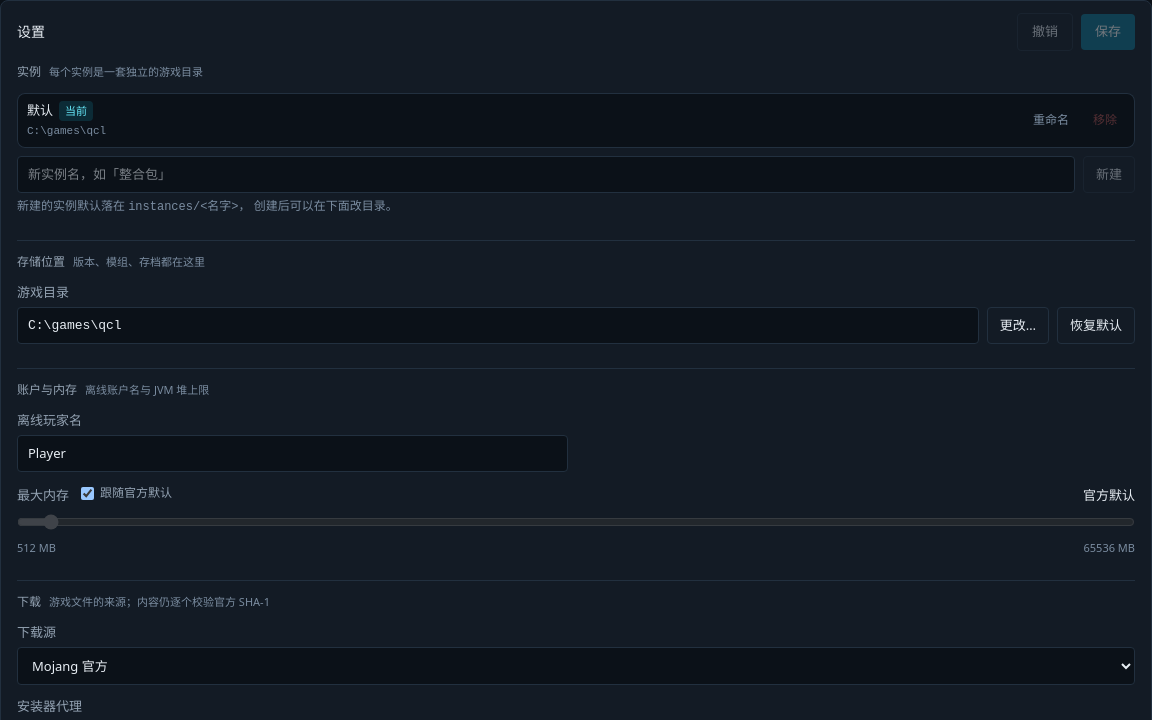
it: SettingsPanel › 取消「跟随官方默认」后滑块可用，并从 2 GB 起
The width and height of the screenshot is (1152, 720).
Click the checkbox labelled "跟随官方默认".
click(88, 493)  # box [81,486,94,500]
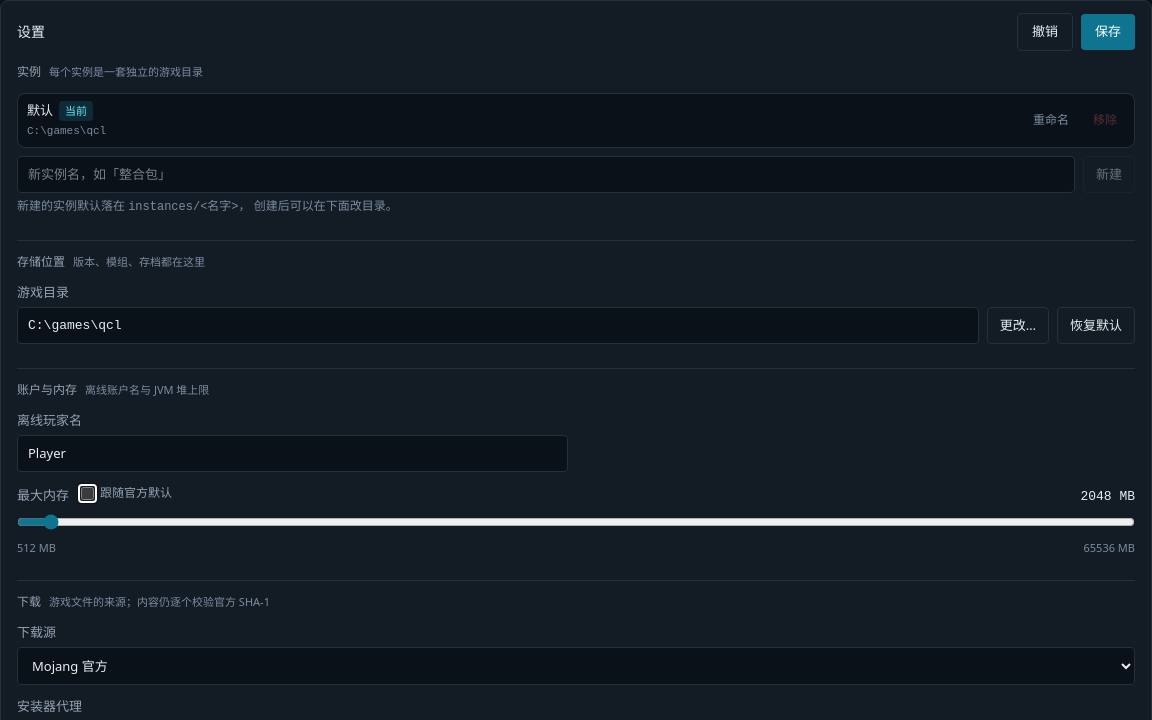
Expected: the slider labelled "最大内存" holds "2048", [17,514,1135,530]
Expected: the slider labelled "最大内存" is enabled, [17,514,1135,530]
